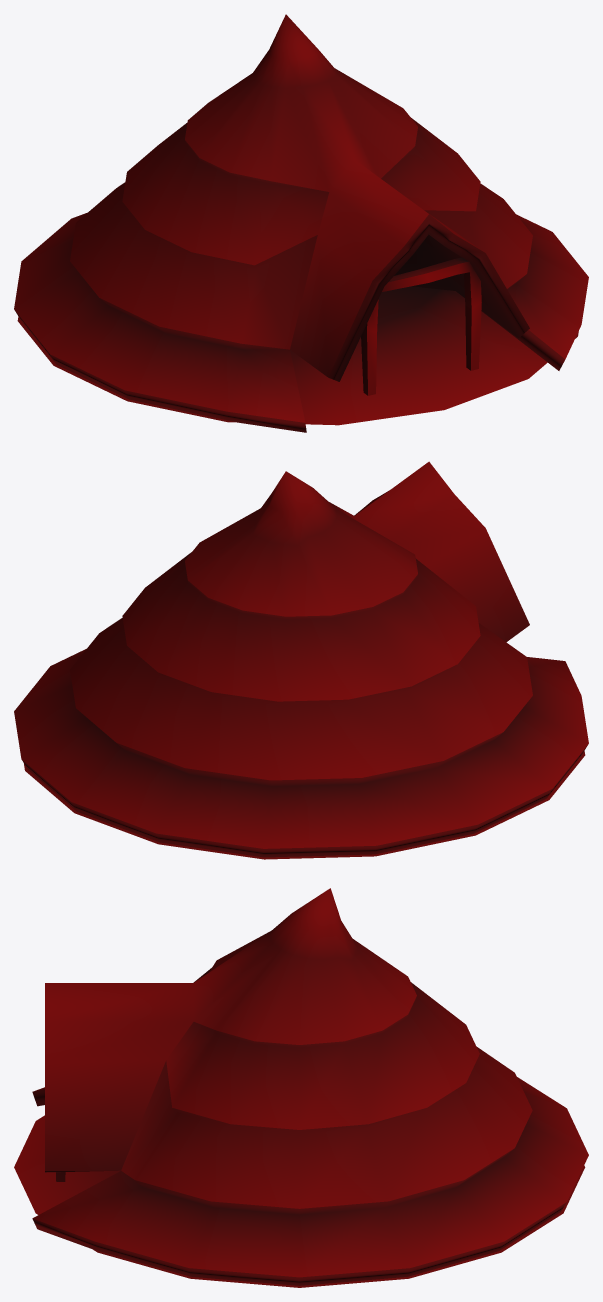
File: buildings-historical-roundhouse_v1.fbx
The picture shows the model from 3 angles, top to bottom: view 1: azimuth 30°, elevation 25°; view 2: azimuth 150°, elevation 25°; view 3: azimuth 270°, elevation 25°; orthographic projection.
Visible parts, largest first — view 1: Roundhouse_v1; view 2: Roundhouse_v1; view 3: Roundhouse_v1.
Boxes of the visible parts, bbox=[...] form: Roundhouse_v1: bbox=[14, 14, 588, 432]; Roundhouse_v1: bbox=[14, 461, 588, 859]; Roundhouse_v1: bbox=[14, 888, 588, 1287].
Bounding box in the file's own units: 12.31 × 6.57 × 12.23.
